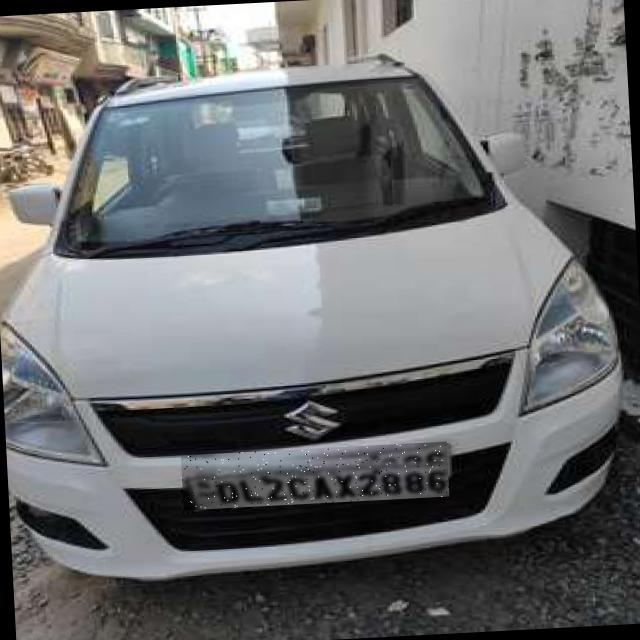Plate: (182, 443, 450, 512)
